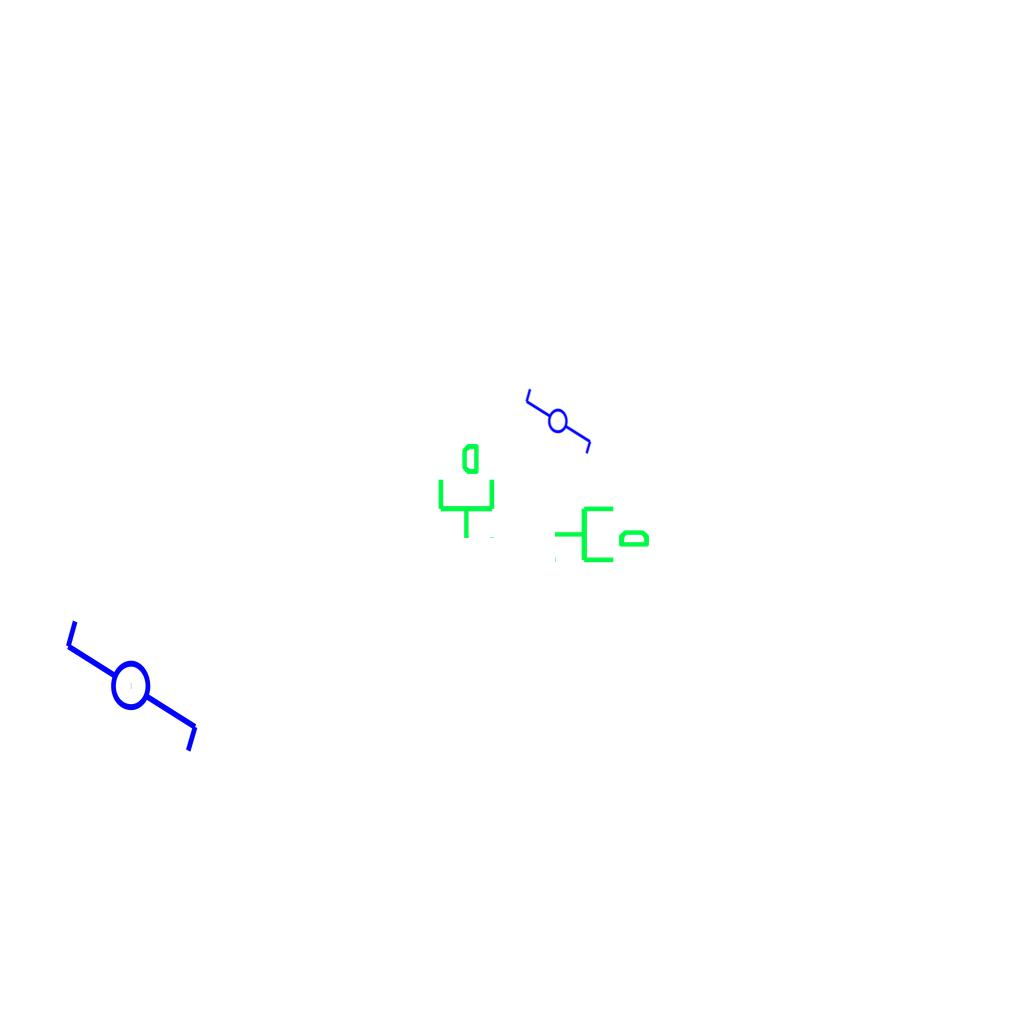Datenanschluss_einfach: (430, 441, 499, 541), (552, 498, 652, 567)
Wechselschalter: (61, 599, 205, 756), (523, 378, 595, 456)
